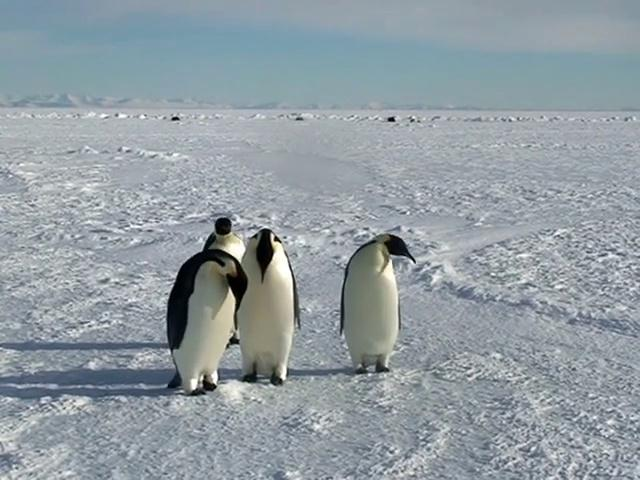animal: (341, 235, 416, 374)
